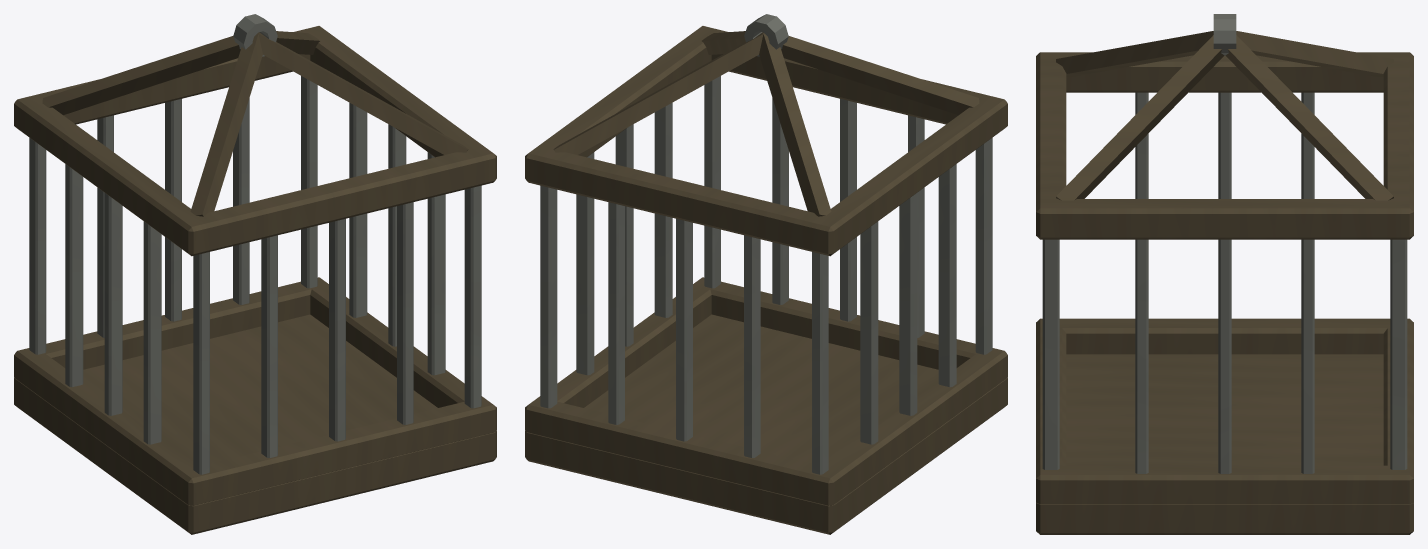
Rendered from WarrensC_WVC017_HoistCage_Mars_SM.fbx.
The picture shows the model from 3 angles, left to right: view 1: azimuth 30°, elevation 25°; view 2: azimuth 150°, elevation 25°; view 3: azimuth 270°, elevation 25°; orthographic projection. The views are drawn at different scales.
Parts seen in each view (by area): view 1: WarrensC_WVC017_HoistCage_Mars_SM.001; view 2: WarrensC_WVC017_HoistCage_Mars_SM.001; view 3: WarrensC_WVC017_HoistCage_Mars_SM.001.
Part boxes in pixels (x1,y1,x2,y2): WarrensC_WVC017_HoistCage_Mars_SM.001: (14,14,496,534); WarrensC_WVC017_HoistCage_Mars_SM.001: (525,14,1007,534); WarrensC_WVC017_HoistCage_Mars_SM.001: (1036,14,1413,534).
Bounding box in the file's own units: 140 × 140 × 180.
